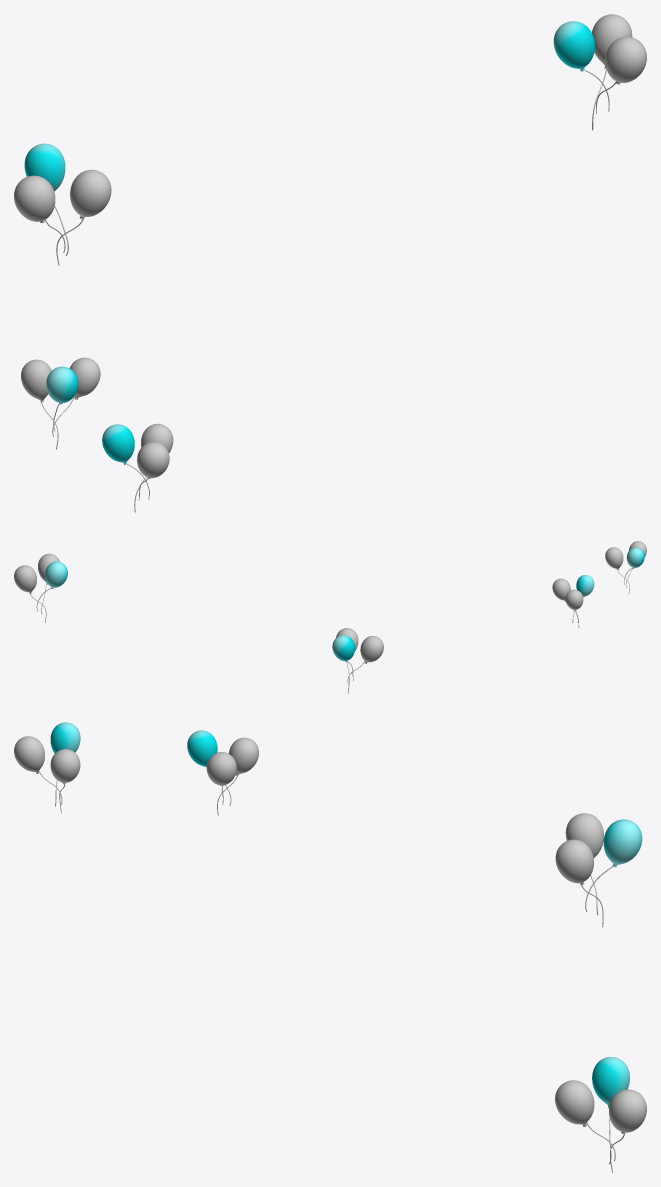
The model's file is mdlGlobos.obj.
3 views of the same model, one above another, from view 1: azimuth 30°, elevation 25°; view 2: azimuth 150°, elevation 25°; view 3: azimuth 270°, elevation 25° (orthographic). The views are drawn at different scales.
Parts seen in each view (by area): view 1: GloboRojo.002, GloboAmarrillo.003, GloboAzul.003, GloboAzul.002, GloboAmarrillo.002, GloboRojo.003, GloboAmarrillo.001, GloboAmarrillo, GloboAzul.001, GloboRojo, GloboAzul; view 2: GloboAzul.002, GloboRojo.003, GloboAmarrillo.003, GloboAmarrillo.002, GloboRojo.001, GloboAmarrillo, GloboAzul, GloboAmarrillo.001, GloboRojo, GloboAzul.003; view 3: GloboAzul.003, GloboAmarrillo.002, GloboRojo.002, GloboRojo.003, GloboAmarrillo.003, GloboAzul.002, GloboAzul.001, GloboAmarrillo, GloboRojo.001, GloboAzul, GloboRojo, GloboAmarrillo.001.
Boxes of the visible parts, left/top/right/bottom form: GloboRojo.002: left=70, top=169, right=111, bottom=219; GloboAmarrillo.003: left=553, top=21, right=594, bottom=71; GloboAzul.003: left=605, top=36, right=646, bottom=84; GloboAzul.002: left=14, top=175, right=55, bottom=222; GloboAmarrillo.002: left=24, top=143, right=65, bottom=191; GloboRojo.003: left=592, top=14, right=632, bottom=68; GloboAmarrillo.001: left=102, top=424, right=134, bottom=464; GloboAmarrillo: left=46, top=366, right=78, bottom=404; GloboAzul.001: left=137, top=442, right=169, bottom=478; GloboRojo: left=21, top=359, right=51, bottom=402; GloboAzul: left=69, top=357, right=100, bottom=399; GloboAzul.002: left=360, top=636, right=383, bottom=663; GloboRojo.003: left=14, top=565, right=36, bottom=593; GloboAmarrillo.003: left=45, top=561, right=67, bottom=588; GloboAmarrillo.002: left=332, top=635, right=355, bottom=662; GloboRojo.001: left=605, top=547, right=623, bottom=570; GloboAmarrillo: left=576, top=575, right=594, bottom=596; GloboAzul: left=552, top=578, right=570, bottom=601; GloboAmarrillo.001: left=626, top=547, right=644, bottom=568; GloboRojo: left=565, top=589, right=583, bottom=610; GloboAzul.003: left=38, top=553, right=59, bottom=584; GloboAzul.003: left=555, top=1080, right=594, bottom=1126; GloboAmarrillo.002: left=603, top=819, right=642, bottom=867; GloboRojo.002: left=555, top=839, right=593, bottom=885; GloboRojo.003: left=609, top=1089, right=646, bottom=1133; GloboAmarrillo.003: left=592, top=1057, right=629, bottom=1107; GloboAzul.002: left=565, top=813, right=603, bottom=857; GloboAzul.001: left=14, top=736, right=44, bottom=773; GloboAmarrillo: left=187, top=730, right=217, bottom=767; GloboRojo.001: left=50, top=749, right=80, bottom=783; GloboAzul: left=206, top=752, right=236, bottom=785; GloboRojo: left=228, top=737, right=258, bottom=776; GloboAmarrillo.001: left=50, top=722, right=80, bottom=753.
Size of the model in its own units: 29.85 by 3.88 by 21.23.
